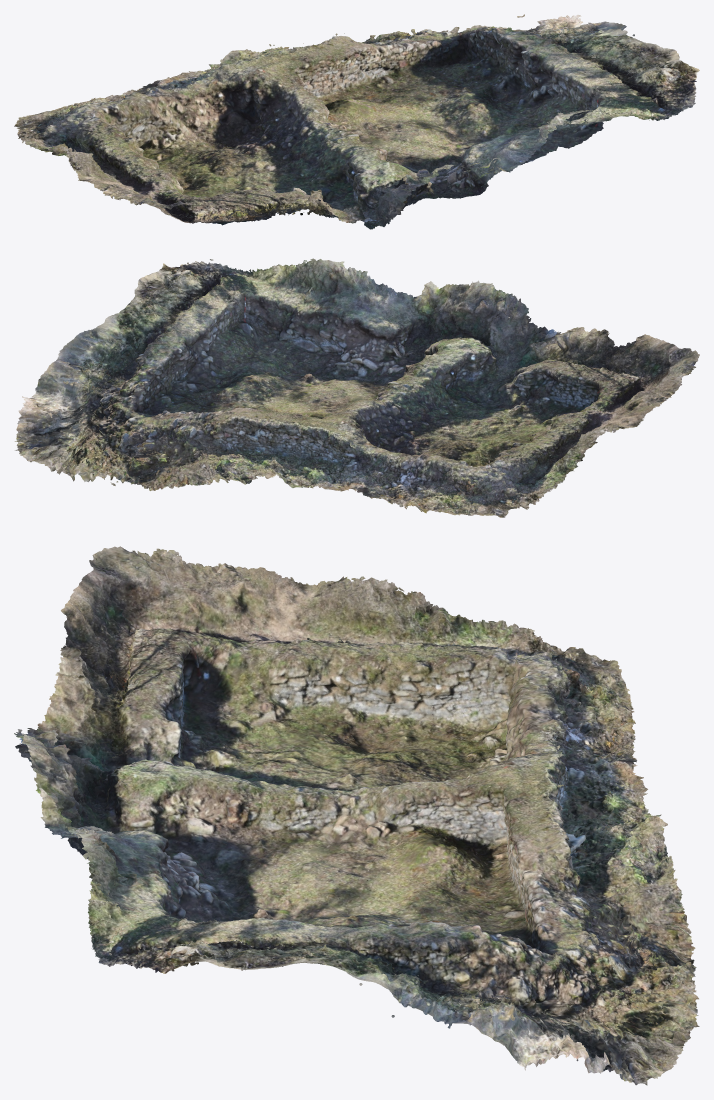
File: hradek_primelkov.glb
The picture shows the model from 3 angles, top to bottom: view 1: azimuth 30°, elevation 25°; view 2: azimuth 150°, elevation 25°; view 3: azimuth 270°, elevation 25°; orthographic projection. The views are drawn at different scales.
Visible parts, largest first — view 1: Object_6, Object_5, Object_7, Object_4, Object_8, Object_9; view 2: Object_6, Object_8, Object_7, Object_5, Object_4, Object_9; view 3: Object_4, Object_6, Object_7, Object_8, Object_5, Object_9.
Part boxes in pixels (<box>): Object_6: <box>171,27,631,222</box>; Object_5: <box>68,60,400,229</box>; Object_7: <box>22,14,699,223</box>; Object_4: <box>14,92,346,224</box>; Object_8: <box>250,21,691,215</box>; Object_9: <box>218,47,477,198</box>; Object_6: <box>74,260,534,490</box>; Object_8: <box>19,258,452,508</box>; Object_7: <box>14,259,643,509</box>; Object_5: <box>313,323,620,513</box>; Object_4: <box>396,331,699,517</box>; Object_9: <box>251,284,479,484</box>; Object_4: <box>61,546,631,781</box>; Object_6: <box>14,729,698,1017</box>; Object_7: <box>49,573,699,1085</box>; Object_8: <box>34,712,695,1079</box>; Object_5: <box>15,645,643,829</box>; Object_9: <box>31,749,667,864</box>.
Size of the model in its own units: 19.45 by 3.32 by 13.64.
1 material, 1 textured.
